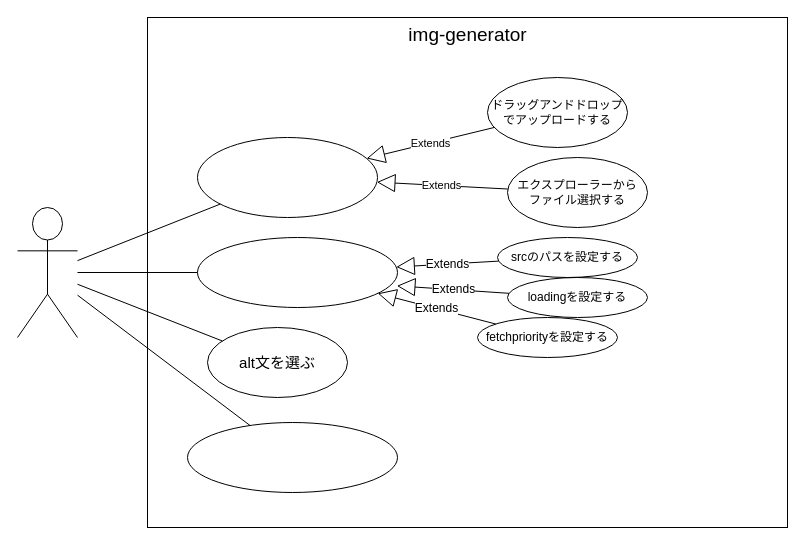
Image size: 805x545. Some labels were removed from this diagram. Here are the shapes that lost their labels. From the top down, the centre of each, then its label:
At point (287, 177): "画像をアップロードする".
At point (47, 272): "User".
At point (297, 272): "imgタグオプションを設定する".
At point (292, 457): "生成されたimgタグを コピーする".
